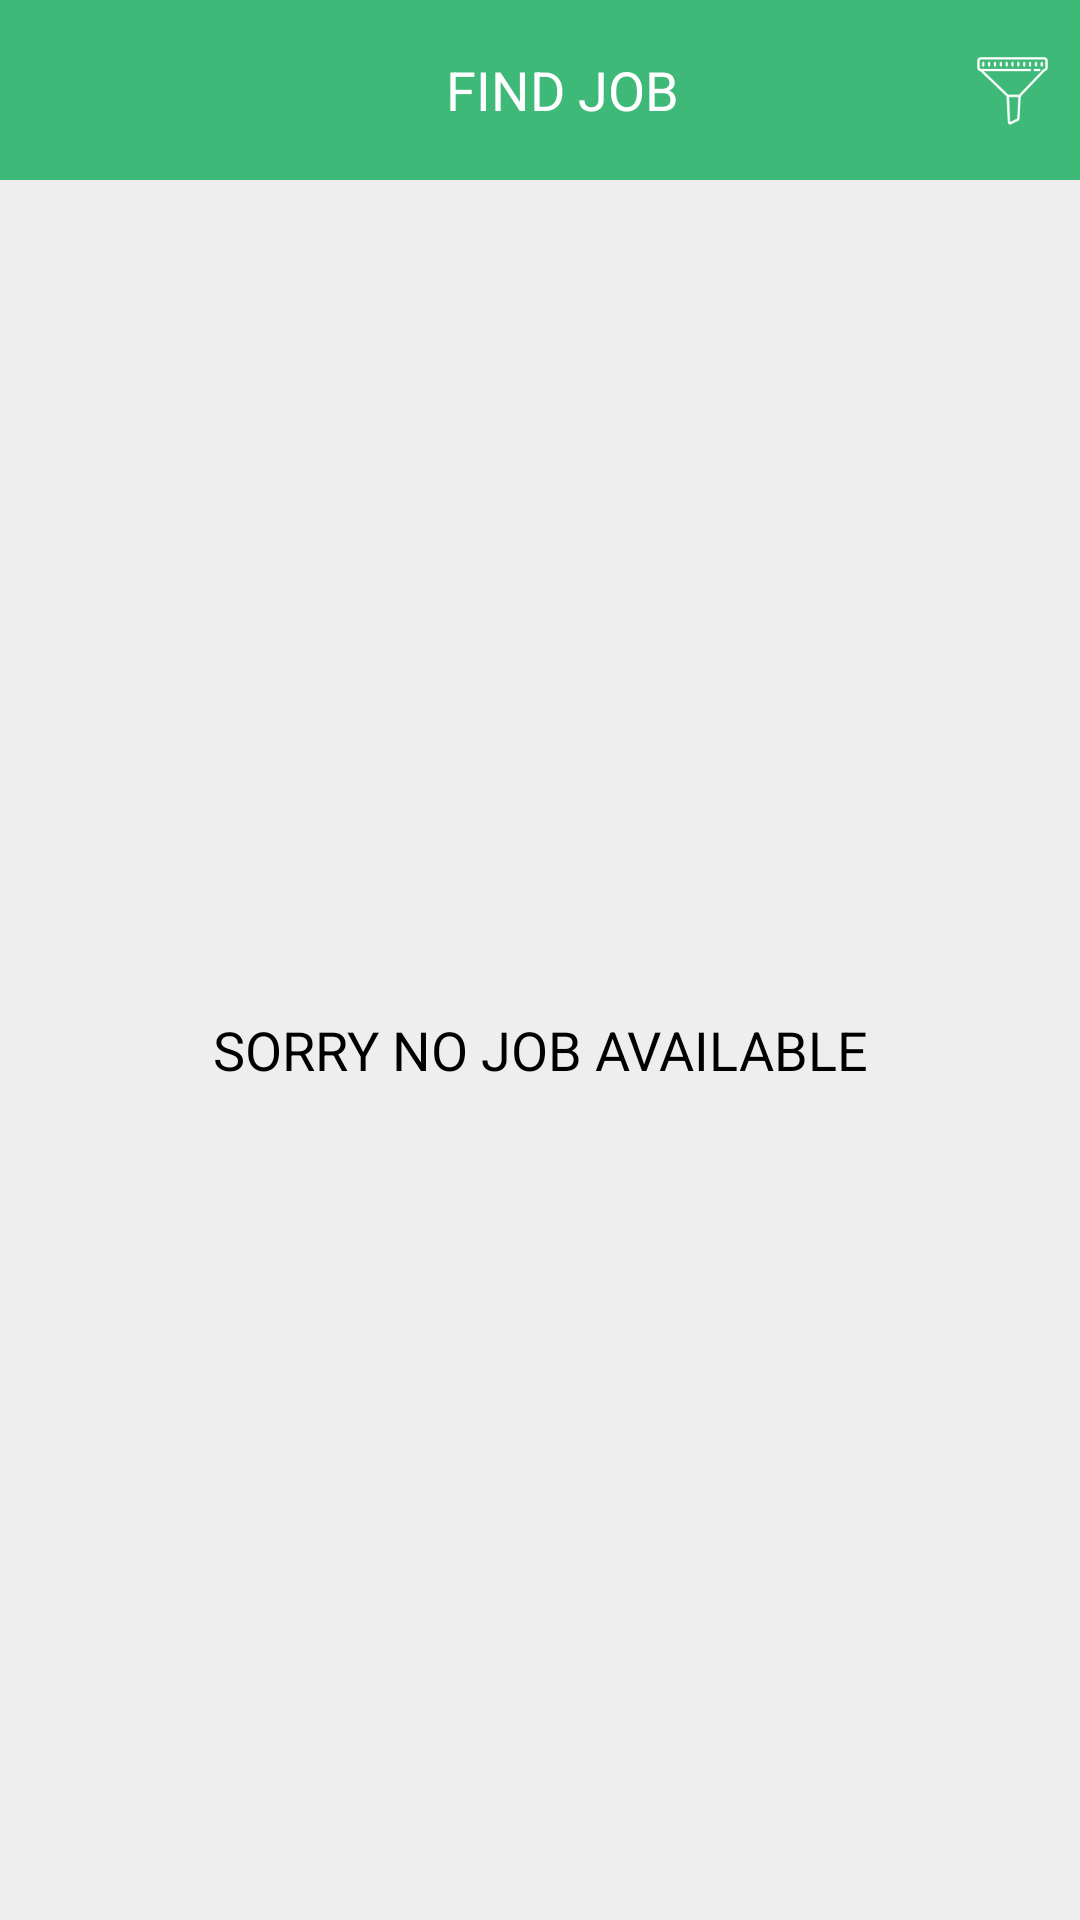

Screen size 1080 × 1920. Icon name, then its box in pixels as (x1, y1, x2, y2):
filter: (977, 57, 1048, 125)
